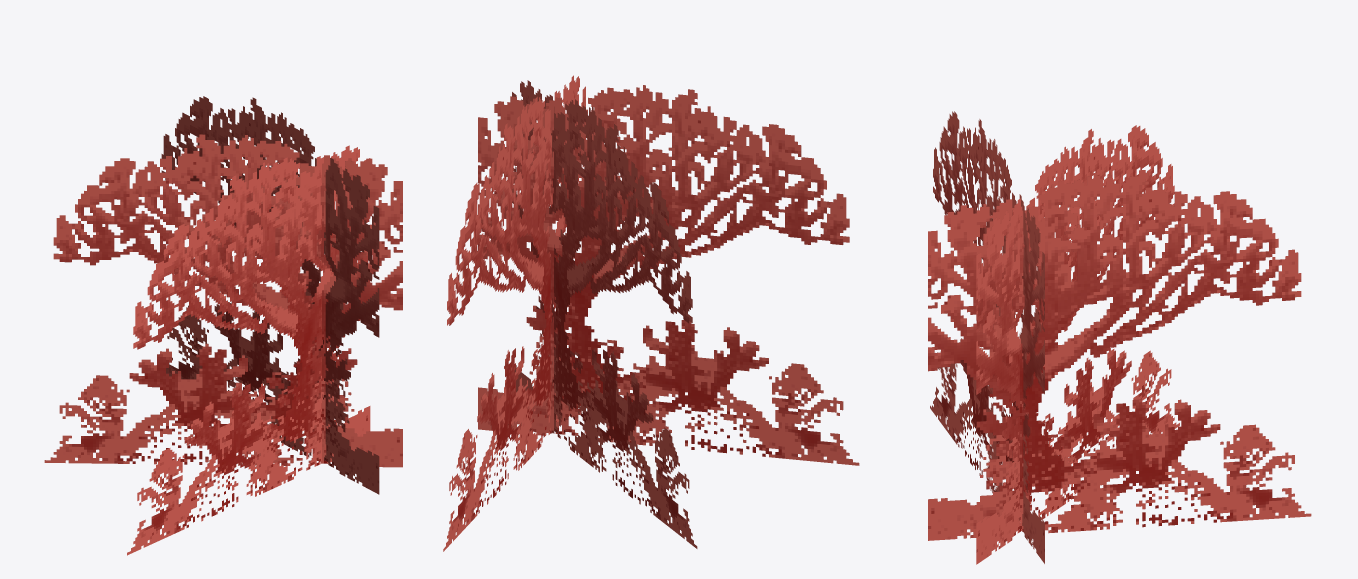
File: Branch Coral 3.fbx
The picture shows the model from 3 angles, left to right: view 1: azimuth 30°, elevation 25°; view 2: azimuth 150°, elevation 25°; view 3: azimuth 270°, elevation 25°; orthographic projection. The views are drawn at different scales.
Visible parts, largest first — view 1: pink branching coral png.008; view 2: pink branching coral png.008; view 3: pink branching coral png.008.
Part boxes in pixels (box(x1,y1,x2,y2)): pink branching coral png.008: box(44, 96, 402, 555); pink branching coral png.008: box(443, 75, 859, 551); pink branching coral png.008: box(928, 111, 1311, 564).
Bounding box in the file's own units: 23.35 × 24.39 × 24.57.
Materials: 1 (1 with a texture image).
